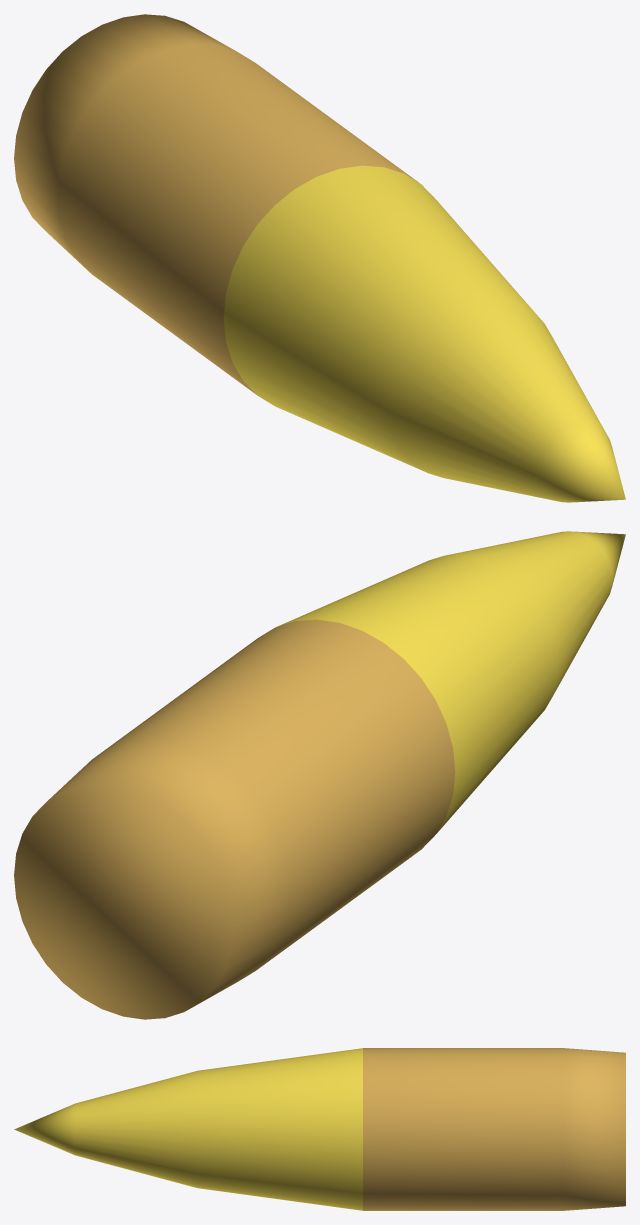
The model's file is needle_50_projectile_display.glb.
3 views of the same model, one above another, from view 1: azimuth 30°, elevation 25°; view 2: azimuth 150°, elevation 25°; view 3: azimuth 270°, elevation 25° (orthographic). The views are drawn at different scales.
Visible parts, largest first — view 1: AMMO_MESH.016; view 2: AMMO_MESH.016; view 3: AMMO_MESH.016.
Boxes of the visible parts, left/top/right/bottom form: AMMO_MESH.016: left=14, top=14, right=625, bottom=502; AMMO_MESH.016: left=14, top=531, right=625, bottom=1019; AMMO_MESH.016: left=14, top=1048, right=625, bottom=1210.
Bounding box in the file's own units: 0.0147 × 0.0147 × 0.0552.
